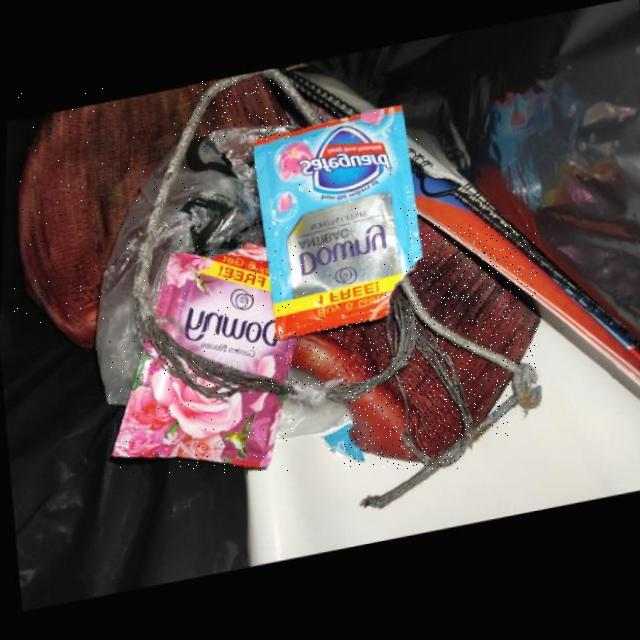biowaste: (15, 84, 208, 349), (405, 225, 537, 370), (344, 357, 463, 469), (431, 341, 510, 435), (289, 323, 389, 390), (187, 78, 290, 141)
wrapper: (110, 246, 295, 473), (248, 111, 419, 344)
